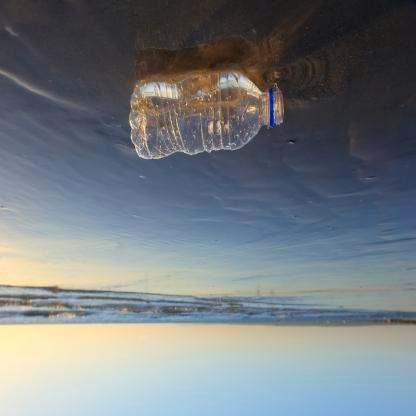Plastic: (127, 67, 286, 162)
